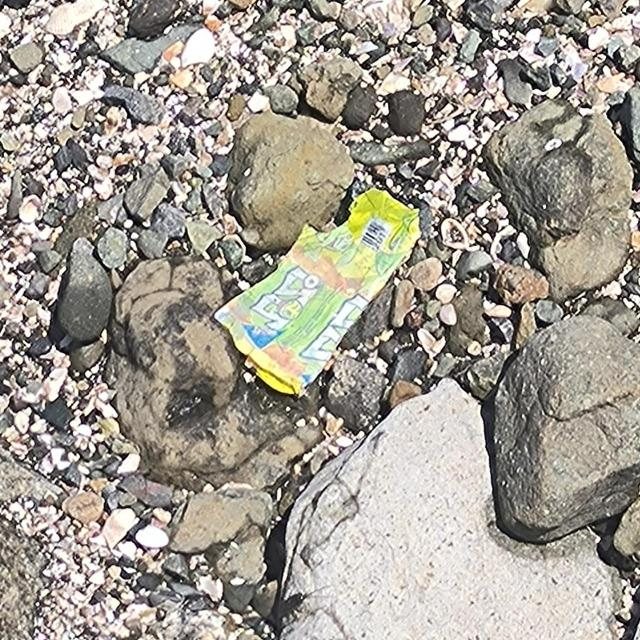plastic_waste: (214, 189, 422, 398)
